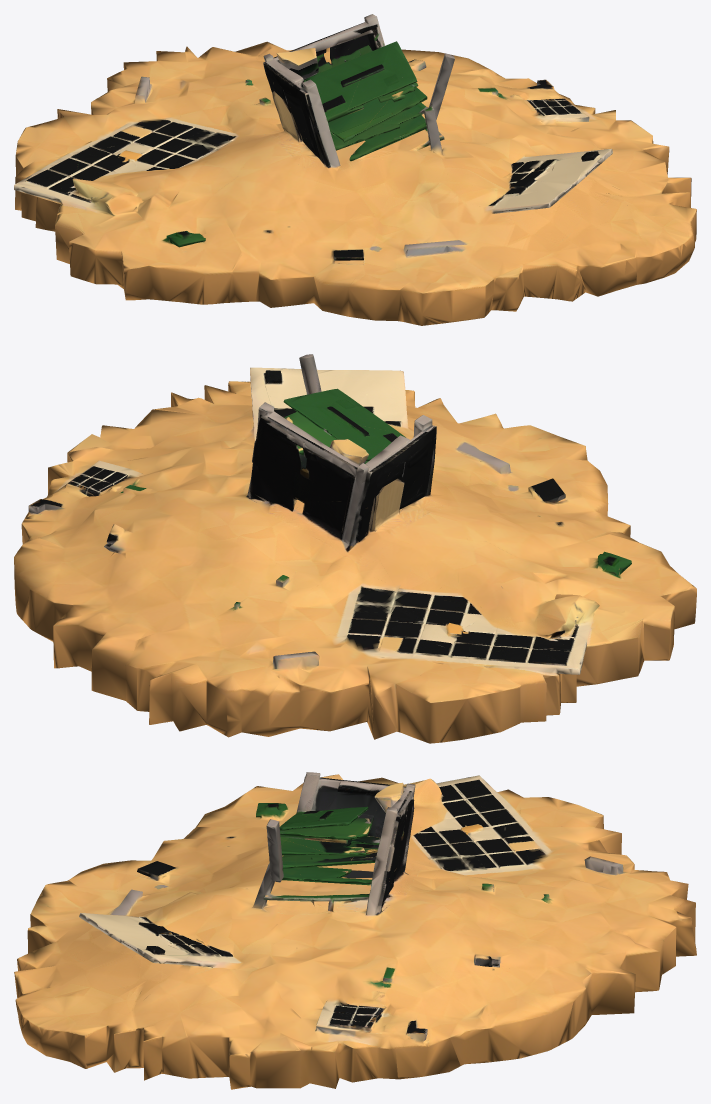
The picture shows the model from 3 angles, top to bottom: view 1: azimuth 30°, elevation 25°; view 2: azimuth 150°, elevation 25°; view 3: azimuth 270°, elevation 25°; orthographic projection. The views are drawn at different scales.
Size of the model in its own units: 1.4 by 0.4 by 1.44.
Materials: 1 (1 with a texture image).
